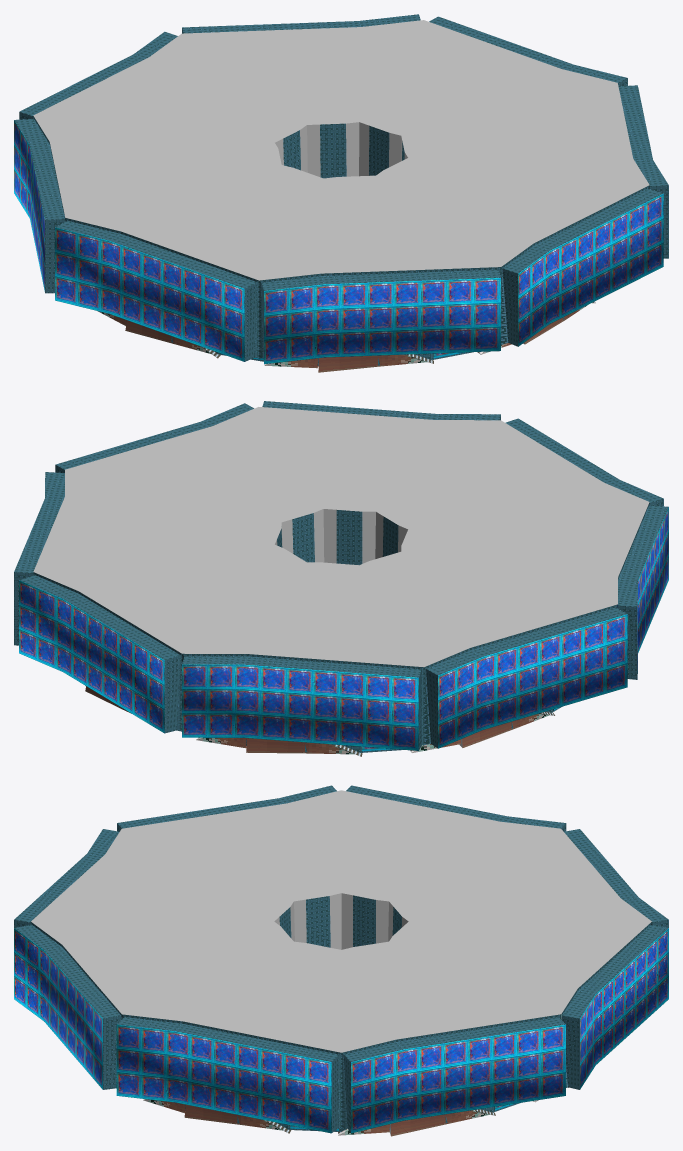
Rendered from AtlantisHall.fbx.
3 views of the same model, one above another, from view 1: azimuth 30°, elevation 25°; view 2: azimuth 150°, elevation 25°; view 3: azimuth 270°, elevation 25° (orthographic). The views are drawn at different scales.
Parts seen in each view (by area): view 1: Circle.001; view 2: Circle.001; view 3: Circle.001.
Part boxes in pixels (x1=…): Circle.001: x1=14, y1=14, x2=668, y2=372; Circle.001: x1=14, y1=401, x2=668, y2=756; Circle.001: x1=14, y1=785, x2=668, y2=1136.
Size of the model in its own units: 12037 by 2033 by 12037.
